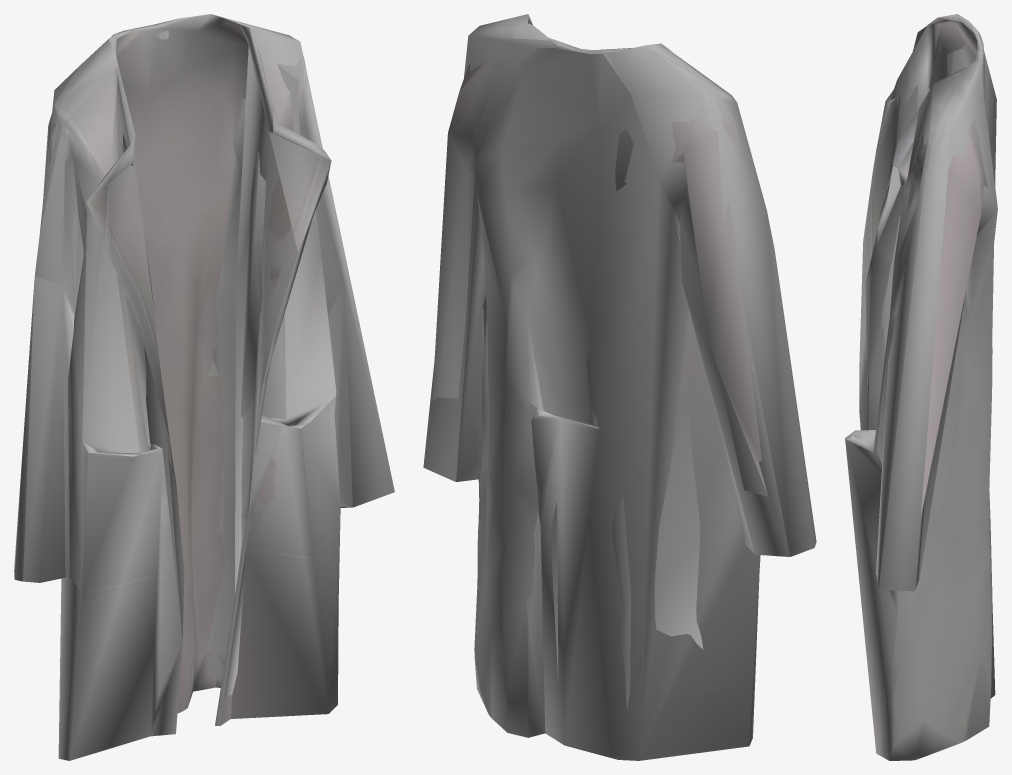
File: casacos-extreme-simple.glb
3 views of the same model, side by side, from view 1: azimuth 30°, elevation 25°; view 2: azimuth 150°, elevation 25°; view 3: azimuth 270°, elevation 25° (orthographic). The views are drawn at different scales.
Parts seen in each view (by area): view 1: textured_mesh; view 2: textured_mesh; view 3: textured_mesh.
Boxes of the visible parts, <box> form: textured_mesh: <box>14,14,394,760</box>; textured_mesh: <box>423,14,816,760</box>; textured_mesh: <box>845,14,997,760</box>.
Bounding box in the file's own units: 1.13 × 1.99 × 0.4186.
1 material, 1 textured.
